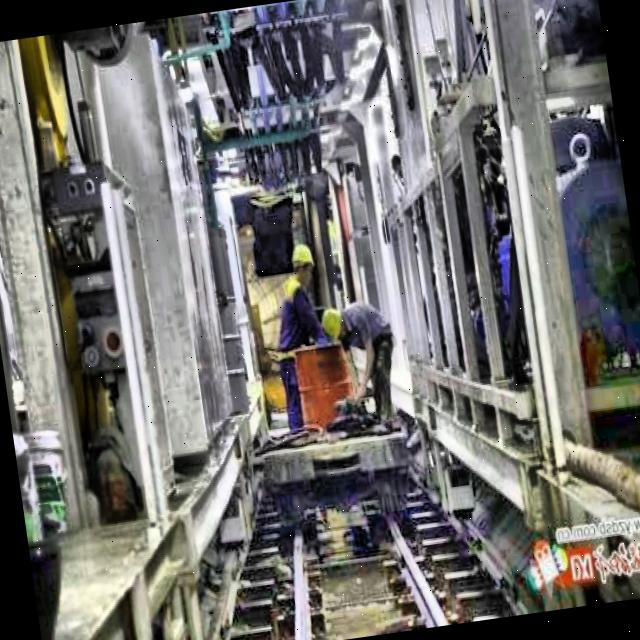helmet: (319, 300, 357, 346), (288, 240, 322, 286)
